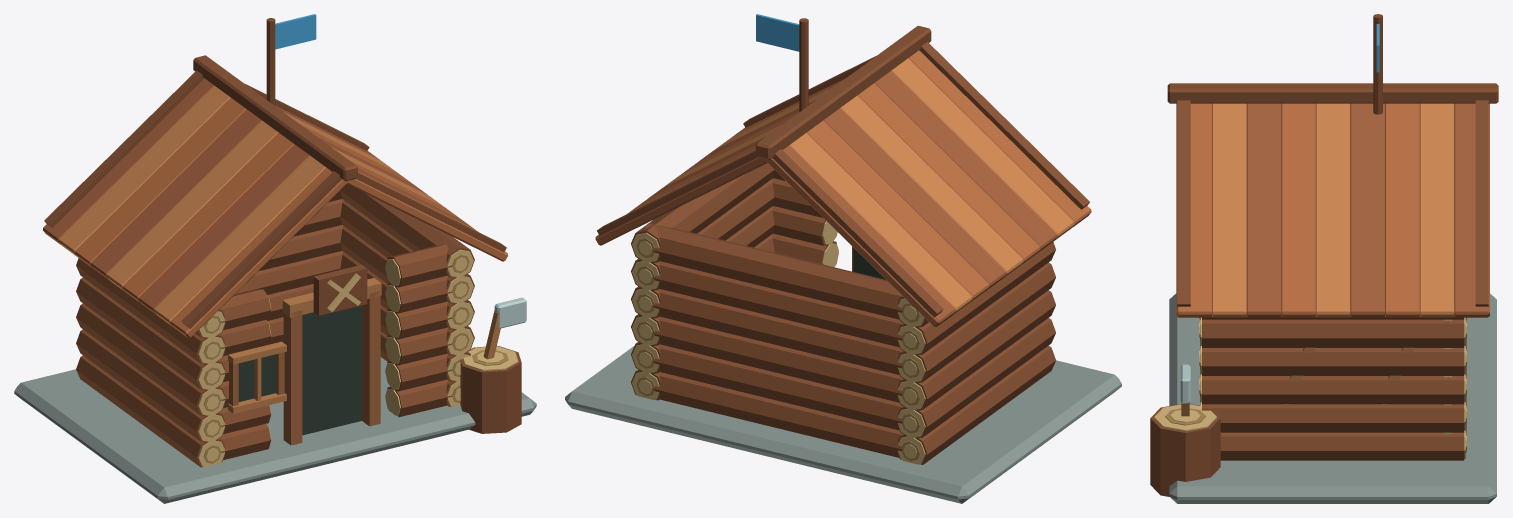
The model's file is lumberjack.glb.
3 views of the same model, side by side, from view 1: azimuth 30°, elevation 25°; view 2: azimuth 150°, elevation 25°; view 3: azimuth 270°, elevation 25° (orthographic). The views are drawn at different scales.
Visible parts, largest first — view 1: lumberjack game mesh; view 2: lumberjack game mesh; view 3: lumberjack game mesh.
Part boxes in pixels (left/top/right/bottom): lumberjack game mesh: left=14, top=14, right=536, bottom=503; lumberjack game mesh: left=565, top=14, right=1121, bottom=503; lumberjack game mesh: left=1150, top=14, right=1498, bottom=503.
Size of the model in its own units: 5.8 by 5.41 by 4.25.
